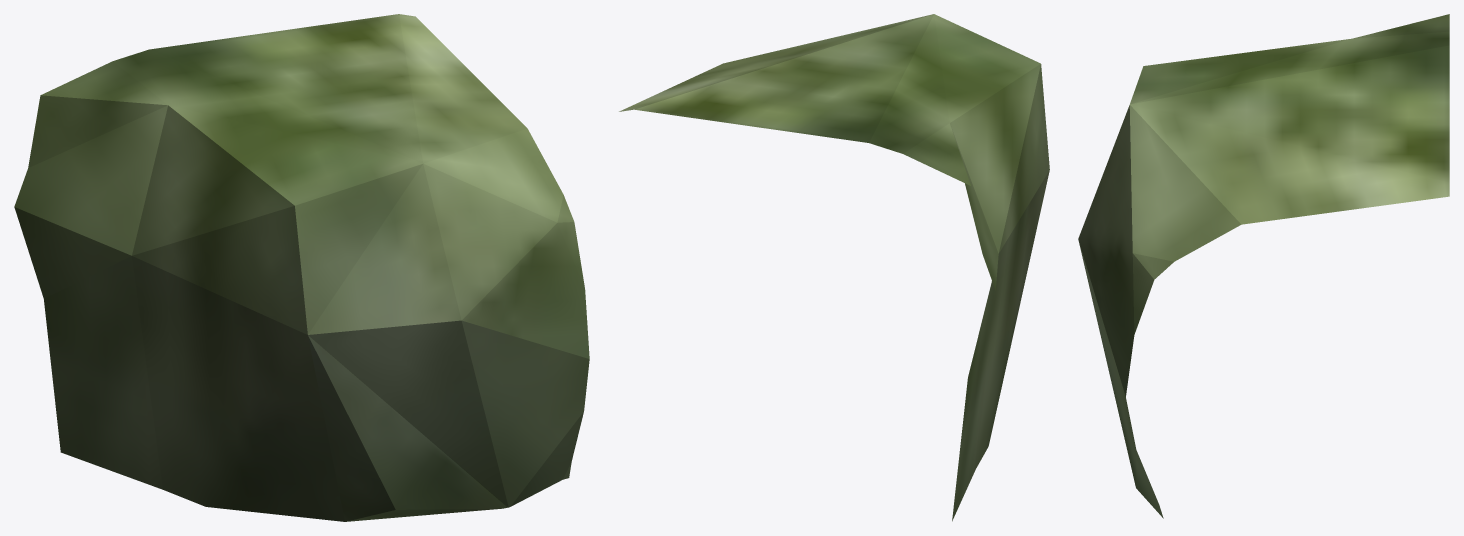
3 views of the same model, side by side, from view 1: azimuth 30°, elevation 25°; view 2: azimuth 150°, elevation 25°; view 3: azimuth 270°, elevation 25° (orthographic). The views are drawn at different scales.
Size of the model in its own units: 0.2959 by 0.2686 by 0.2546.
Materials: 1 (1 with a texture image).
